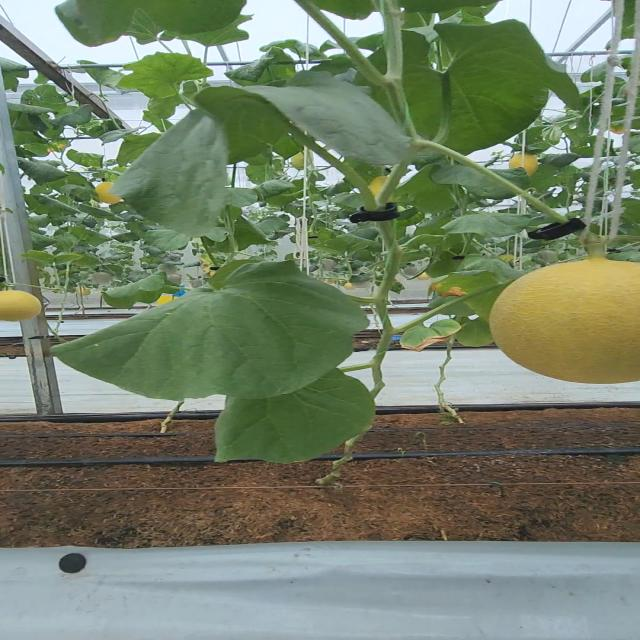Melon: (484, 256, 640, 388), (0, 288, 47, 327)
